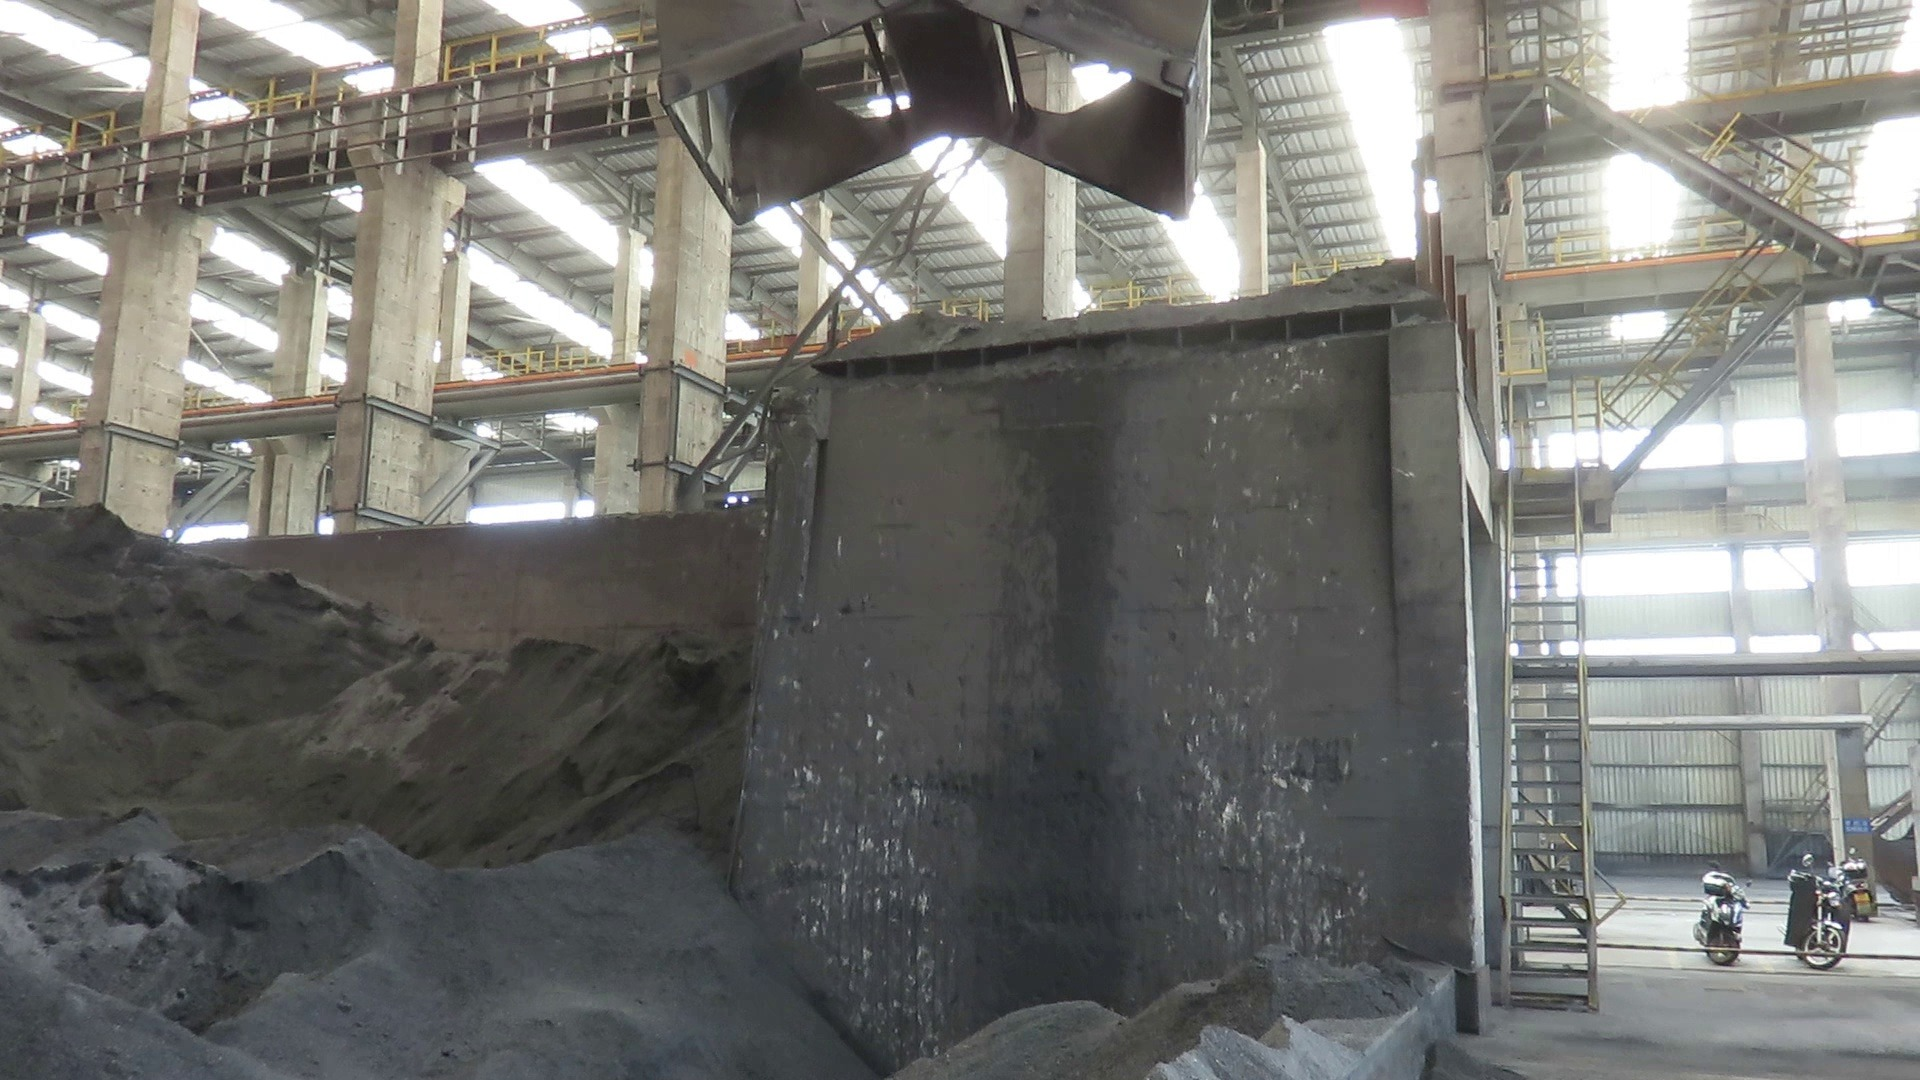grab: (638, 0, 1218, 229)
